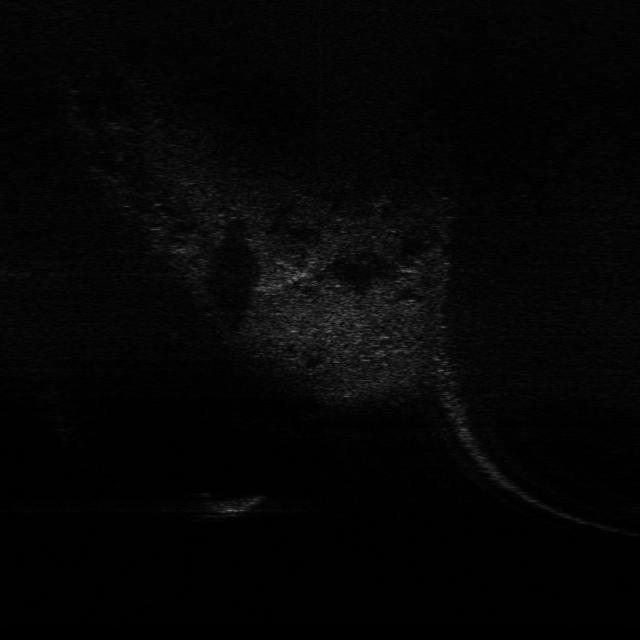cube: (187, 488, 264, 524)
